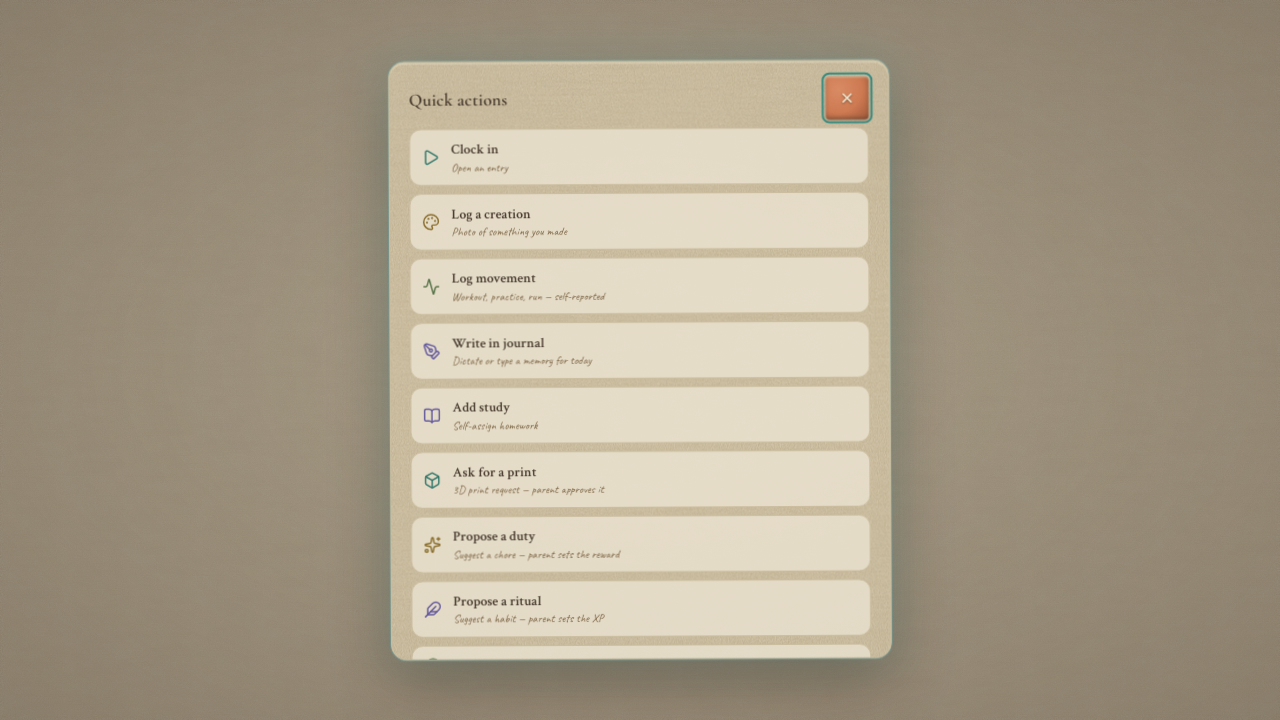
Test: QuickActionsSheet › opens the JournalEntryFormModal in create mode when no entry exists yet
Click the button "Write in journal Dictate or type a memory for today" at (498, 343), box [410,321,870,380]
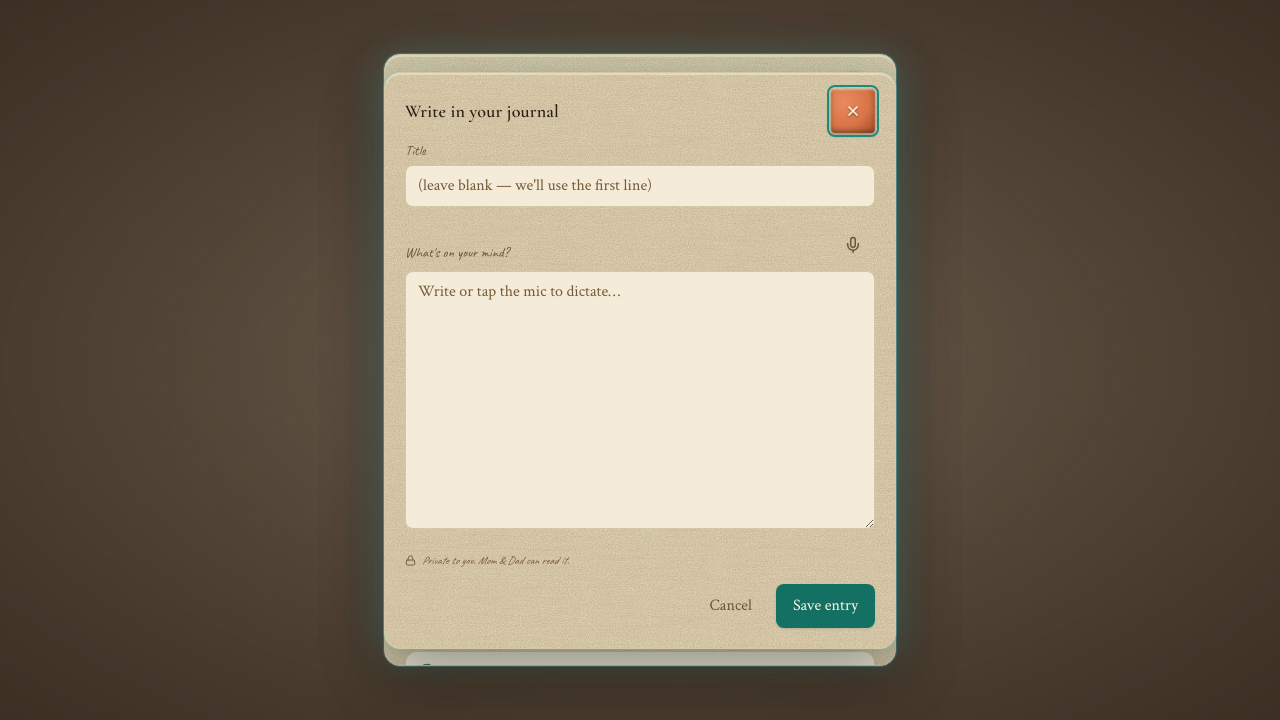
Expected: the dialog "Write in your journal" is shown, [384,72,896,648]
